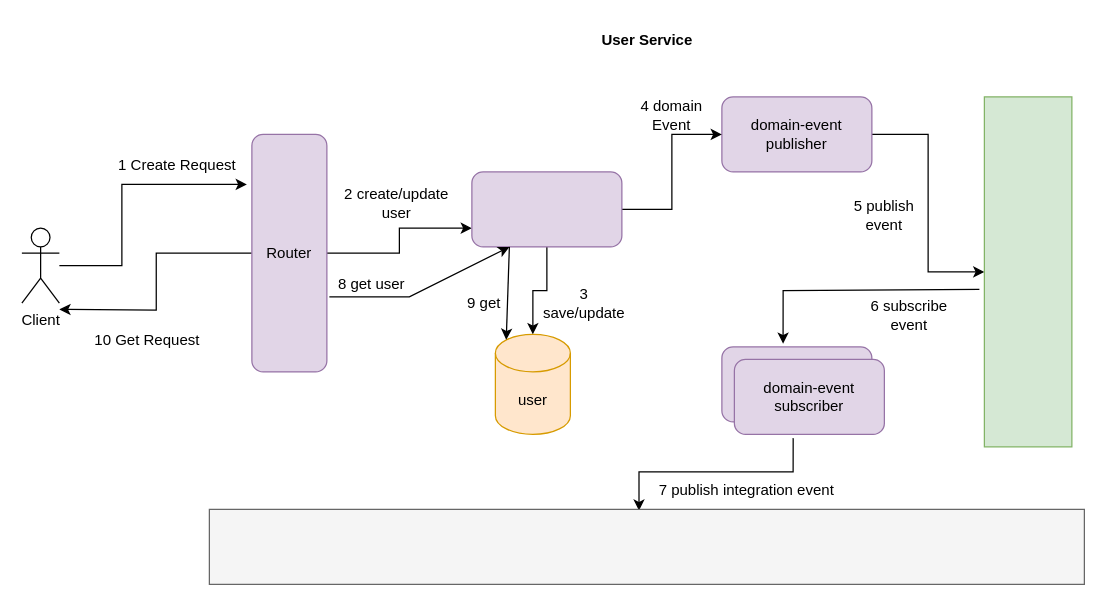
This 1106x606 diagram has some shape labels left out. Each missing label, with the centre of its shape:
In Memory Reactive Event Bus: point (1027, 271)
Kafka: point (646, 546)
Request Handler: point (546, 209)
